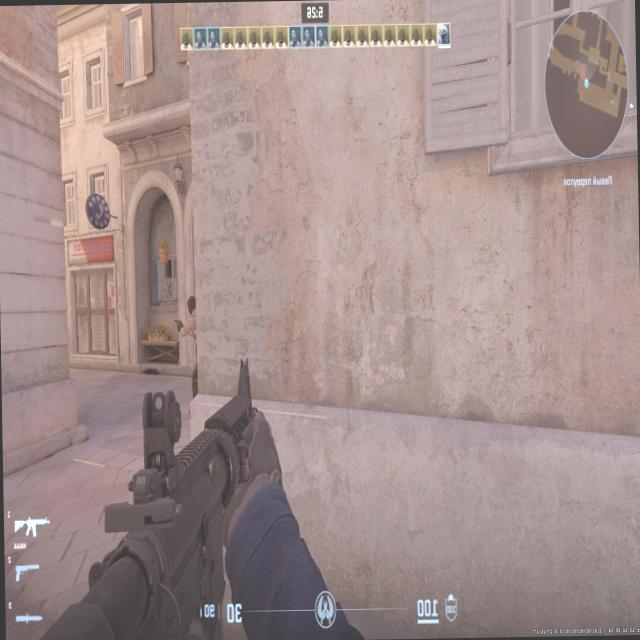T: (186, 294, 196, 394)
T_heat: (188, 300, 192, 314)
